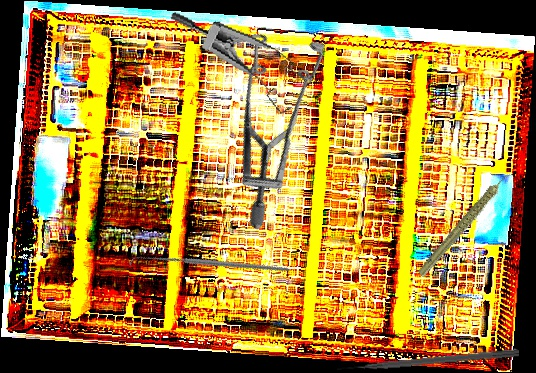Handpiece: (400, 170, 533, 279)
Hook Surgical: (128, 191, 291, 342)
Pusher: (336, 347, 520, 373)
Speculum: (156, 4, 382, 231), (154, 9, 322, 120)
